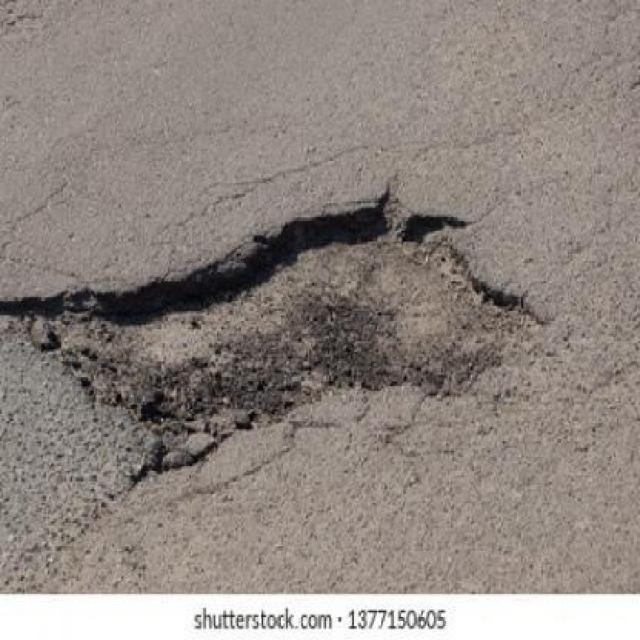Buraco: (0, 189, 547, 483)
